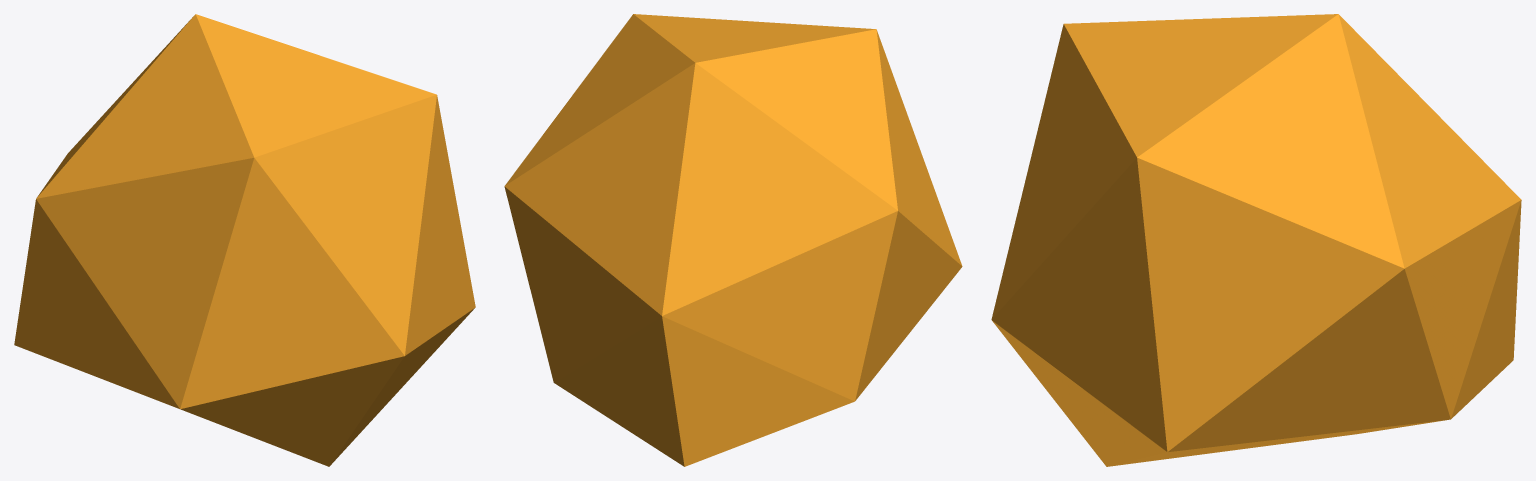
The model's file is SM_Hazelnut.fbx.
The picture shows the model from 3 angles, left to right: view 1: azimuth 30°, elevation 25°; view 2: azimuth 150°, elevation 25°; view 3: azimuth 270°, elevation 25°; orthographic projection. The views are drawn at different scales.
Visible parts, largest first — view 1: hazelnut; view 2: hazelnut; view 3: hazelnut.
Part boxes in pixels (x1,y1,x2,y2): hazelnut: [14, 14, 475, 466]; hazelnut: [504, 14, 962, 466]; hazelnut: [991, 14, 1521, 466].
Size of the model in its own units: 0.0454 by 0.0432 by 0.0476.
